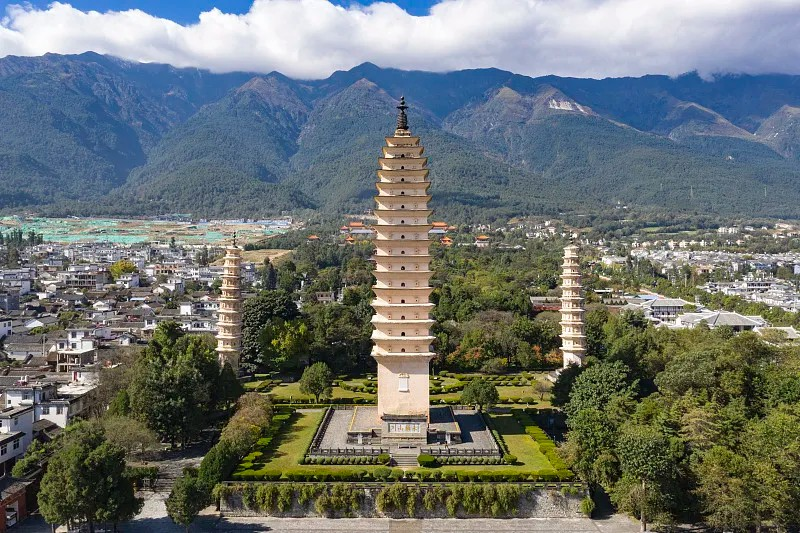ThreePagoda: (370, 95, 436, 421)
